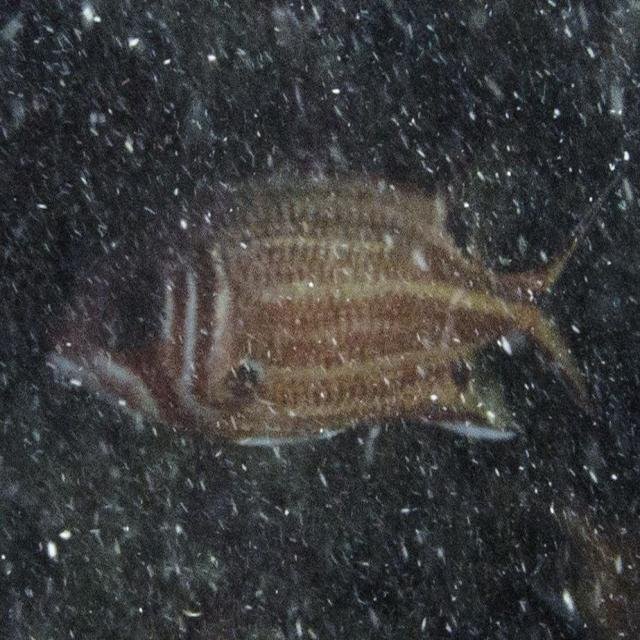Asker Baligi: (46, 166, 596, 452)
